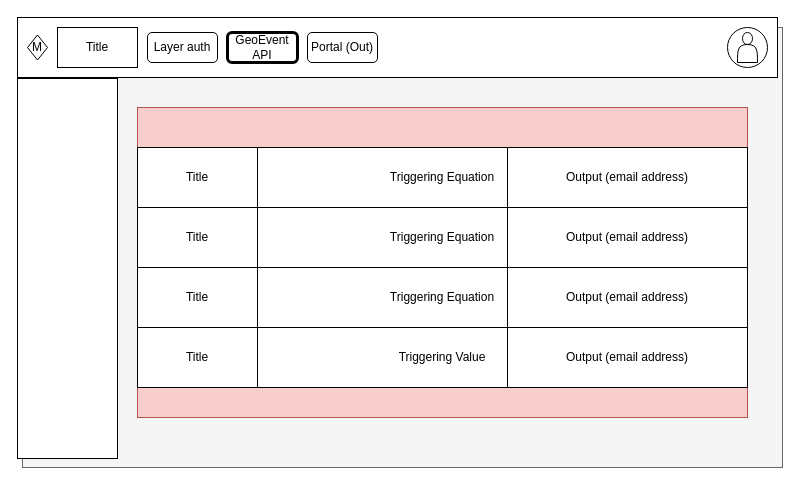
Some shapes in this 800 by 491 pixel diagram are drawn without their labels. Each missing label, with the box of its shape:
Static Geofences: (136, 106, 748, 418)
Static GeoFences Dyamic GeoFences: (16, 78, 118, 458)
